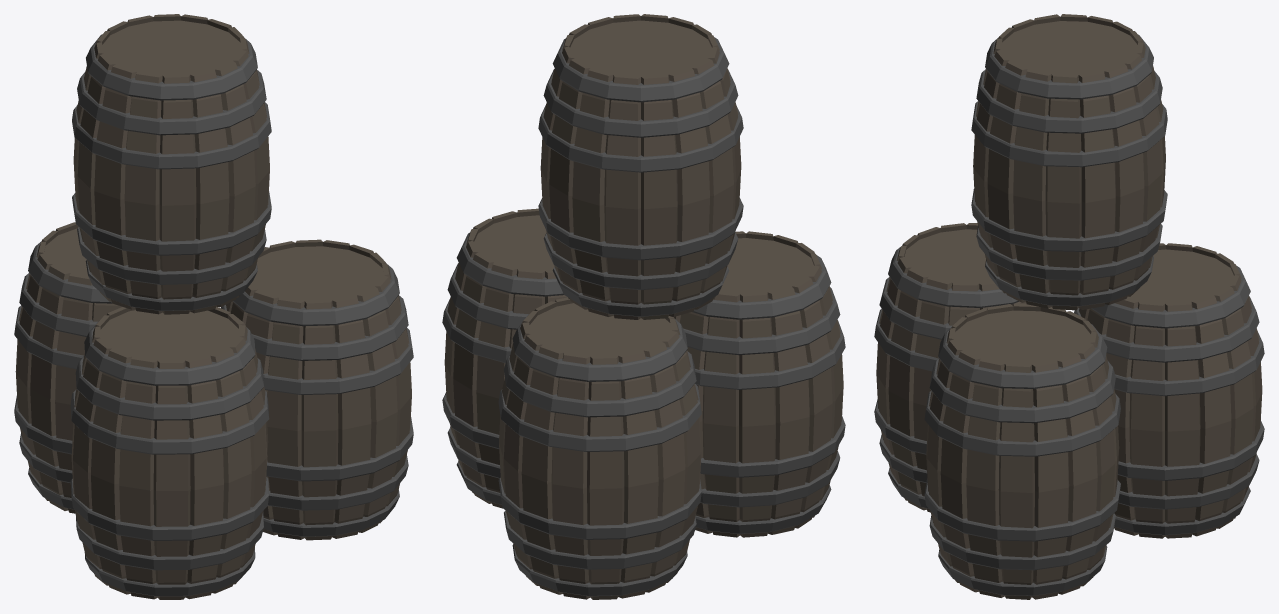
Rendered from Prop_Barrel_Stak_02.fbx.
The picture shows the model from 3 angles, left to right: view 1: azimuth 30°, elevation 25°; view 2: azimuth 150°, elevation 25°; view 3: azimuth 270°, elevation 25°; orthographic projection. The views are drawn at different scales.
Visible parts, largest first — view 1: Prop_Barrel_Stak_02_LOD0; view 2: Prop_Barrel_Stak_02_LOD0; view 3: Prop_Barrel_Stak_02_LOD0.
Part boxes in pixels (x1,y1,x2,y2): Prop_Barrel_Stak_02_LOD0: (14,14,413,599); Prop_Barrel_Stak_02_LOD0: (442,14,845,599); Prop_Barrel_Stak_02_LOD0: (874,14,1264,599).
Size of what is drawn, in the model's own units: 134 by 177 by 134.
